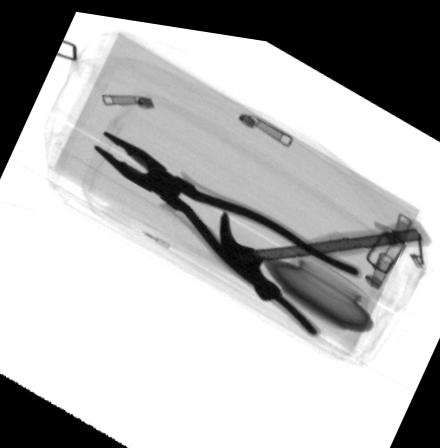Hammer: (219, 203, 432, 294)
Pliers: (93, 129, 362, 329)
